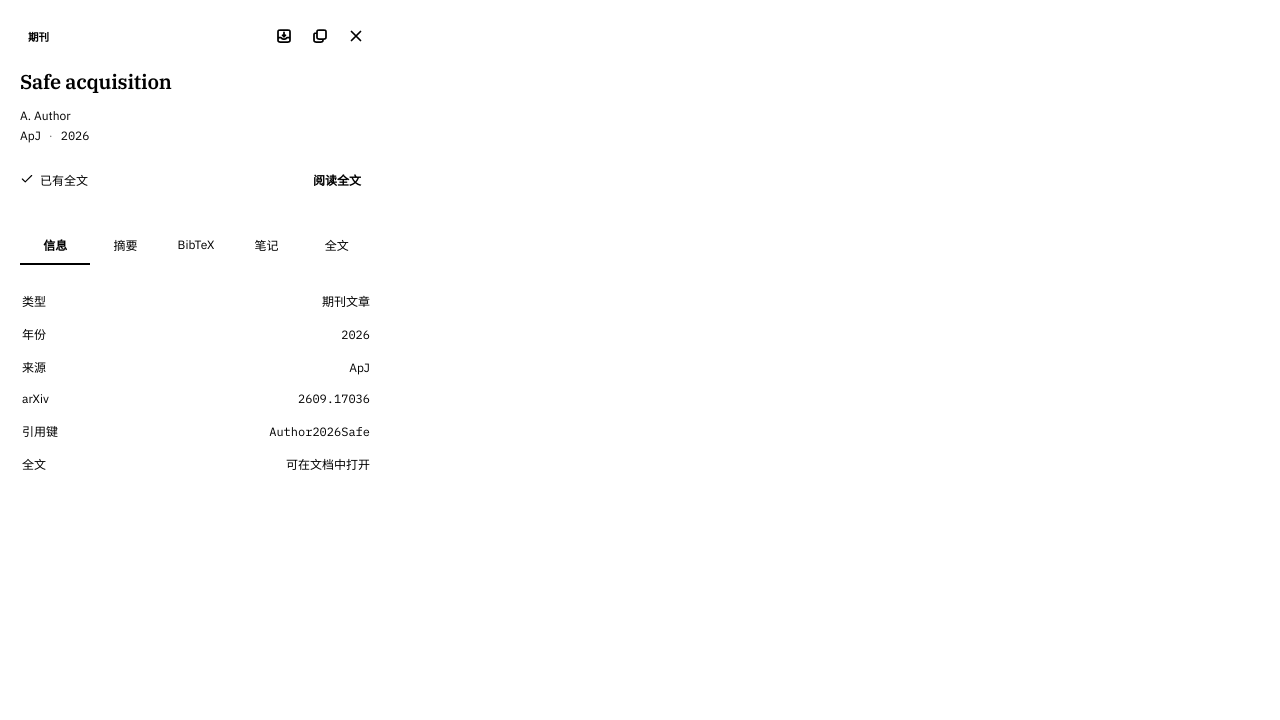
RefDetail full-text acquisition › blocks duplicate submission and every dismissal path while the request is pending
The width and height of the screenshot is (1280, 720).
Click the tab "全文": (337, 246) [302, 227, 372, 265]
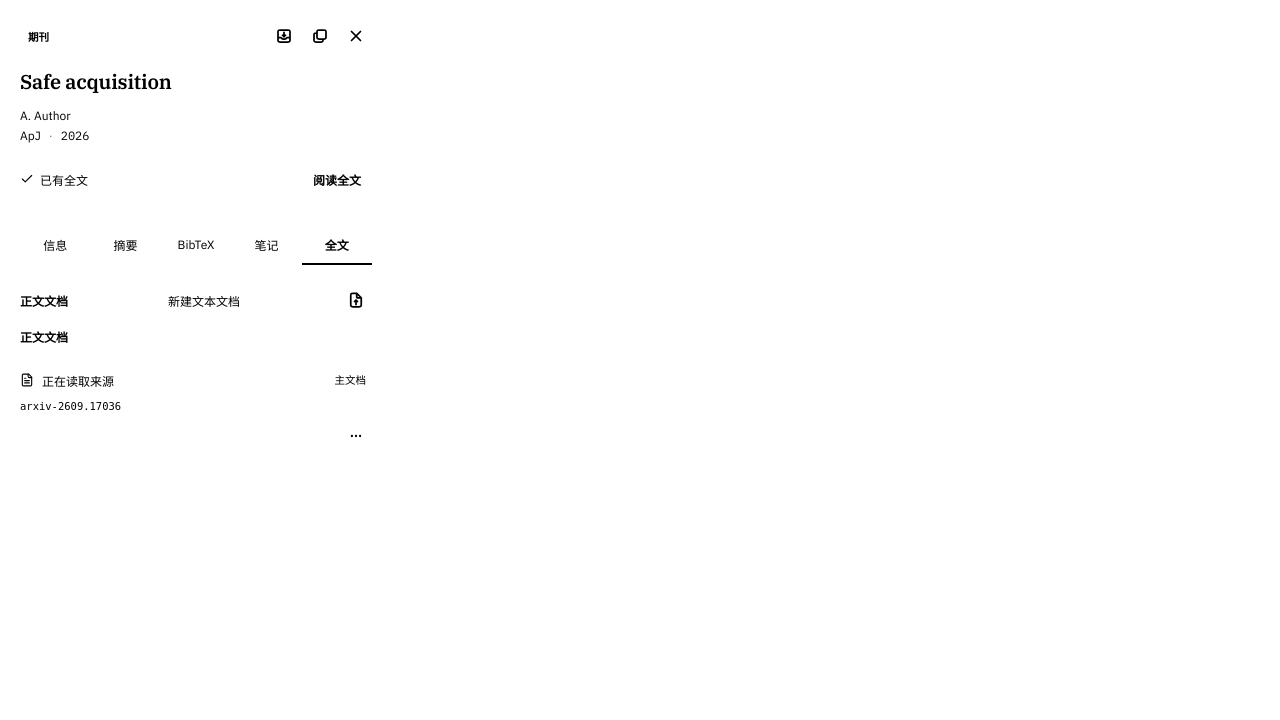
Click the button named "添加 / 更新全文…": (356, 300) [340, 284, 372, 316]
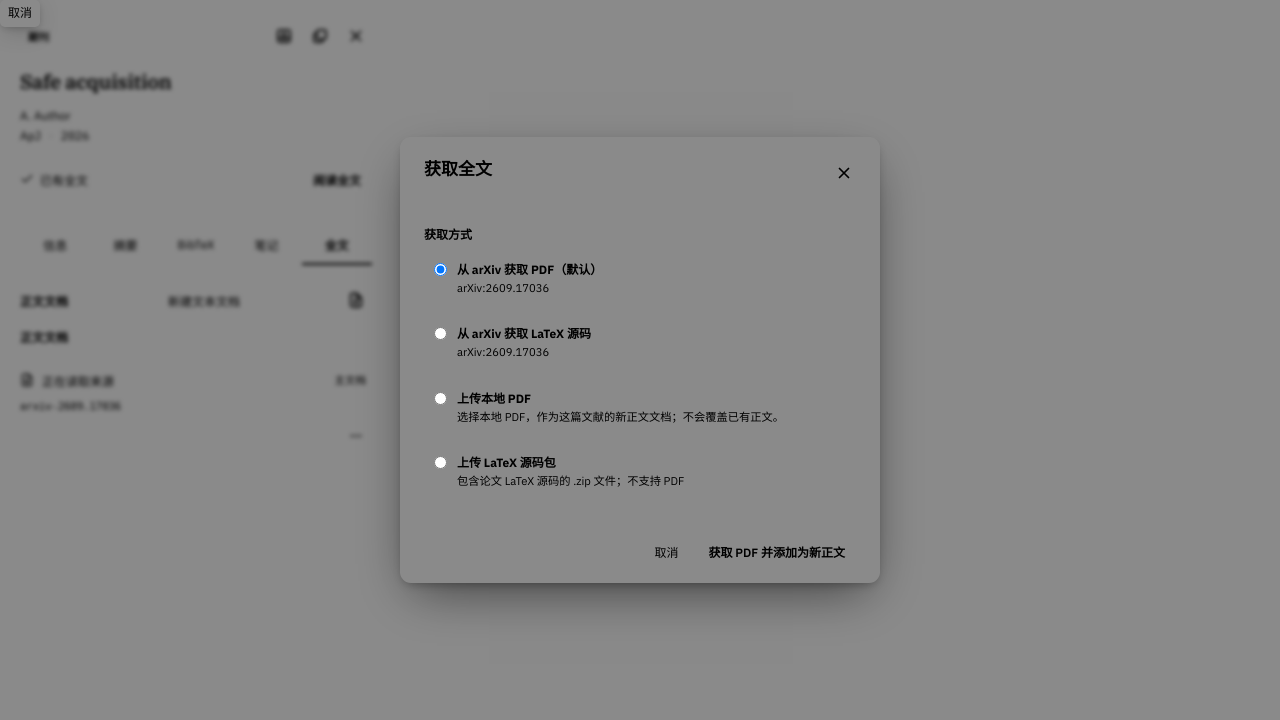
Click the radio button labelled "从 arXiv 获取 LaTeX 源码 arXiv:2609.17036": (440, 334) [434, 327, 447, 340]
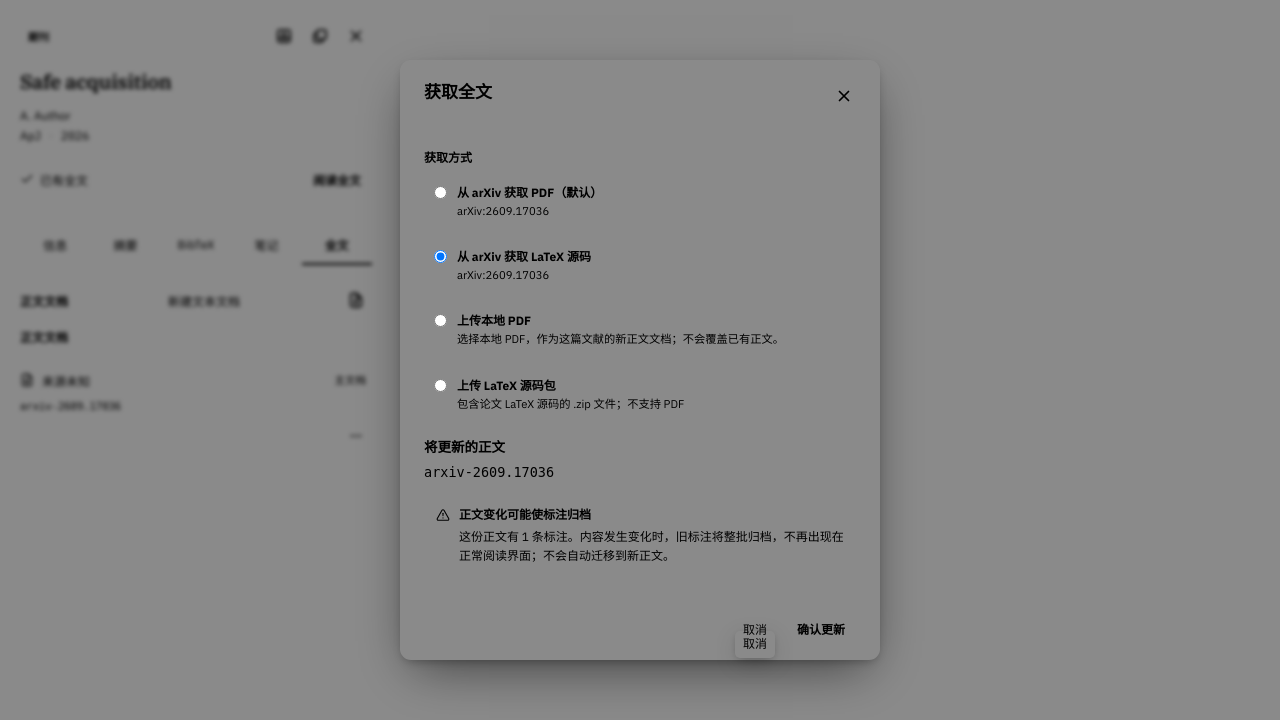
Now the text "这份正文有 1 条标注。内容发生变化时，旧标注将整批归档，不再出现在正常阅读界面；不会自动迁移到新正文。" is shown, box [459, 527, 844, 565]
Click the button "确认更新": (821, 628) [786, 612, 856, 644]
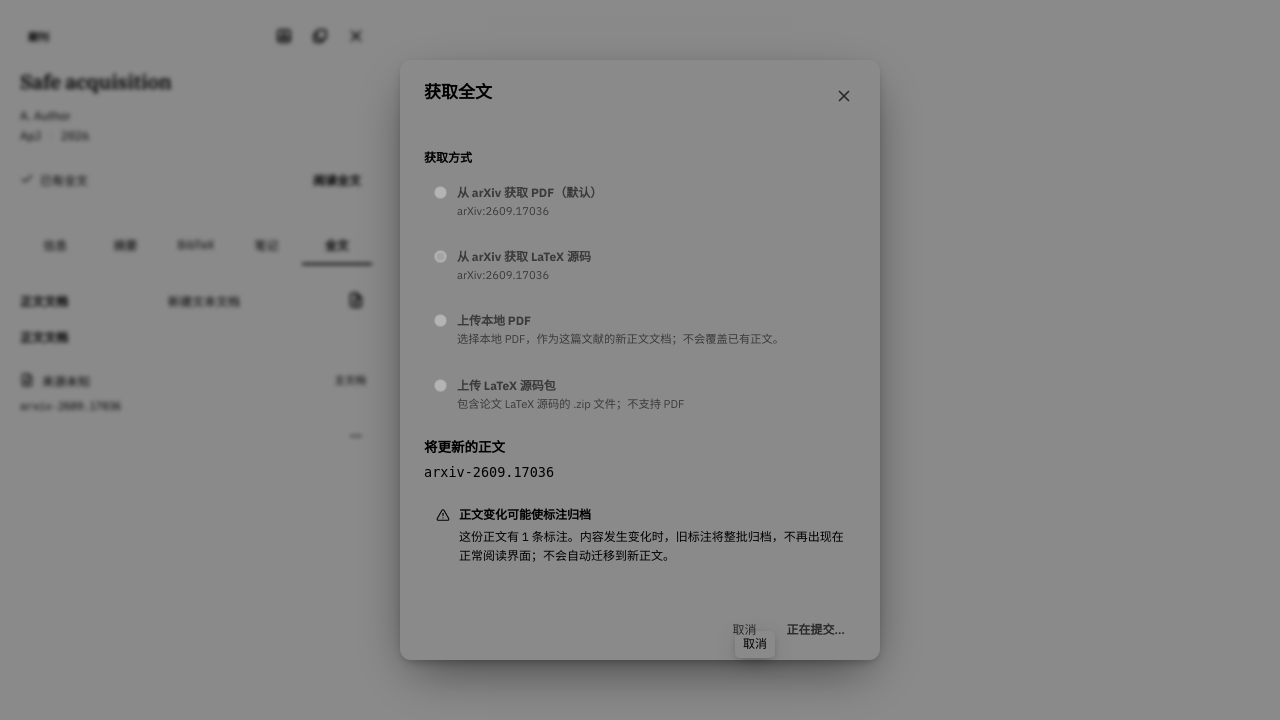
Now the button "正在提交…" is disabled, box [776, 612, 856, 644]
Press Escape
Click the element with test id "dialog-backdrop": (77, 360) [0, 0, 1279, 719]
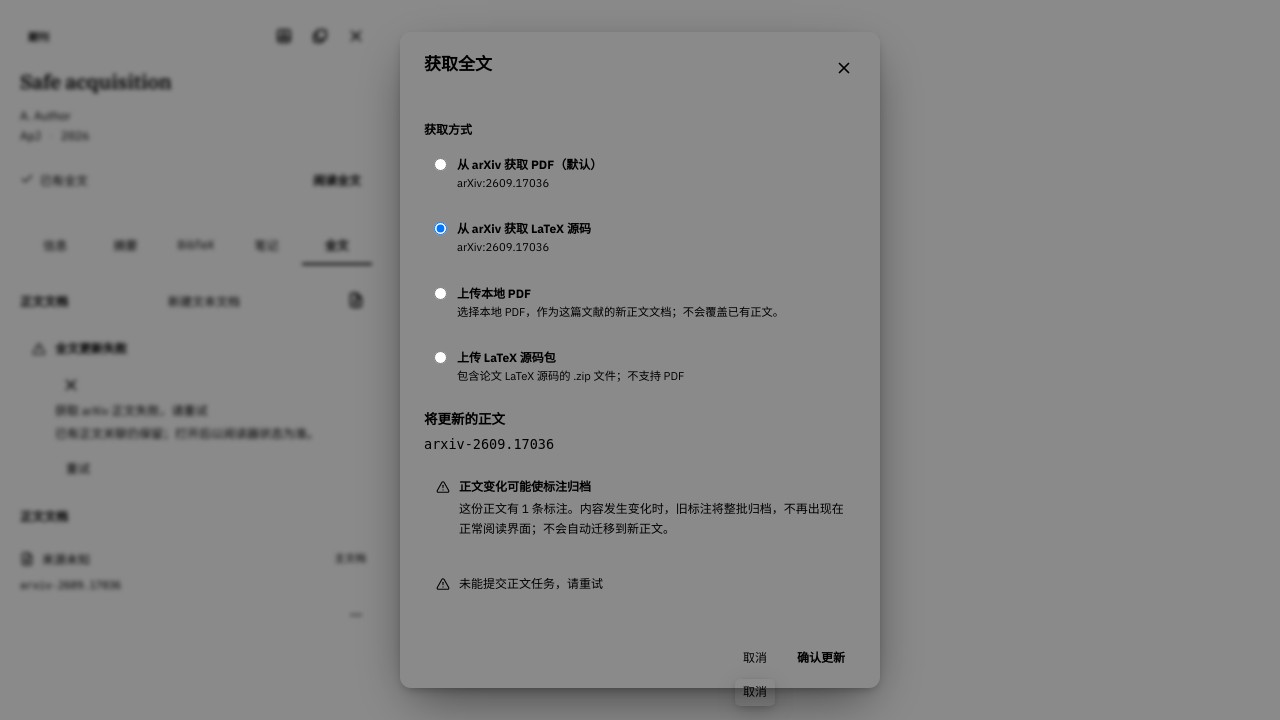
Now the dialog "获取全文" is shown, box [400, 32, 880, 688]
Now the text "这份正文有 1 条标注。内容发生变化时，旧标注将整批归档，不再出现在正常阅读界面；不会自动迁移到新正文。" is shown, box [459, 499, 844, 538]
Now the text "获取 arXiv 正文失败，请重试" is shown, box [55, 403, 208, 418]
